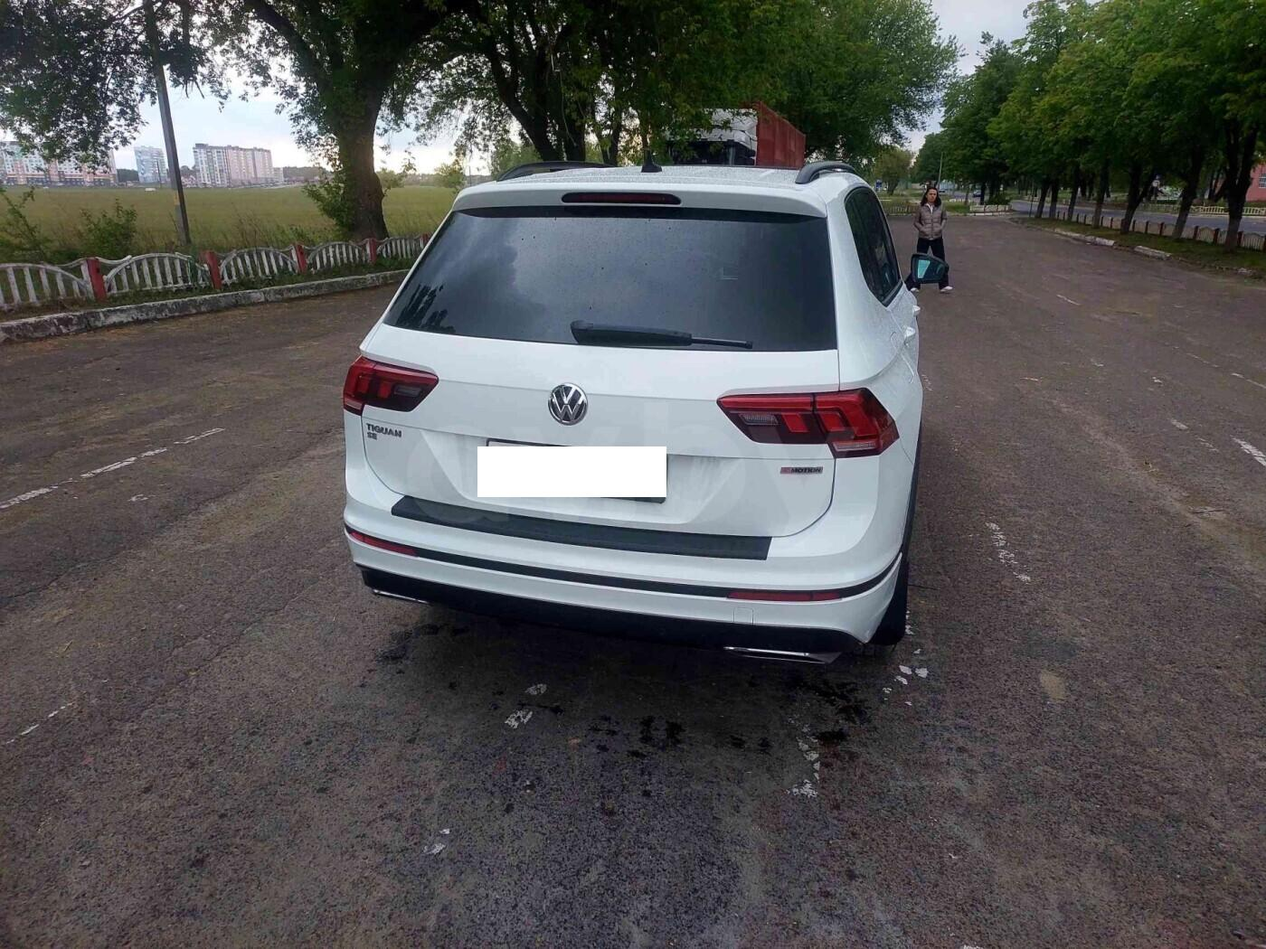Tiguan_2016-2021: (332, 159, 929, 677)
